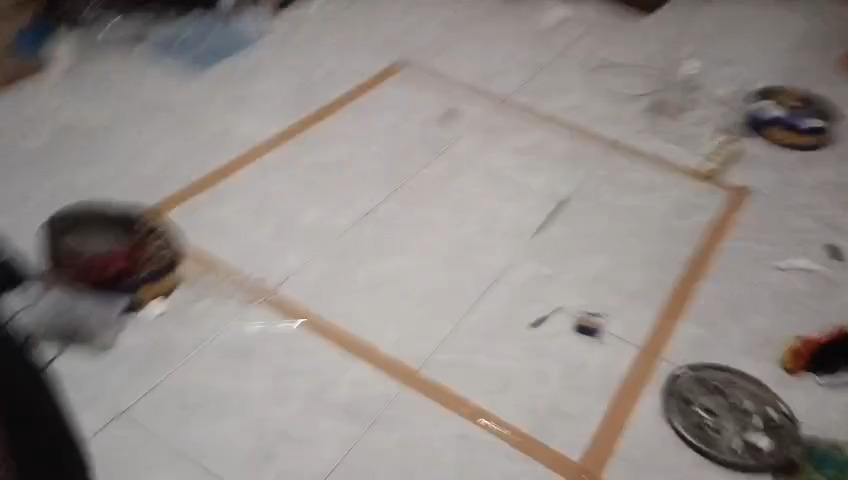floor marking: (154, 62, 749, 479)
